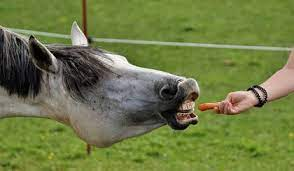Horse: (11, 25, 205, 149)
